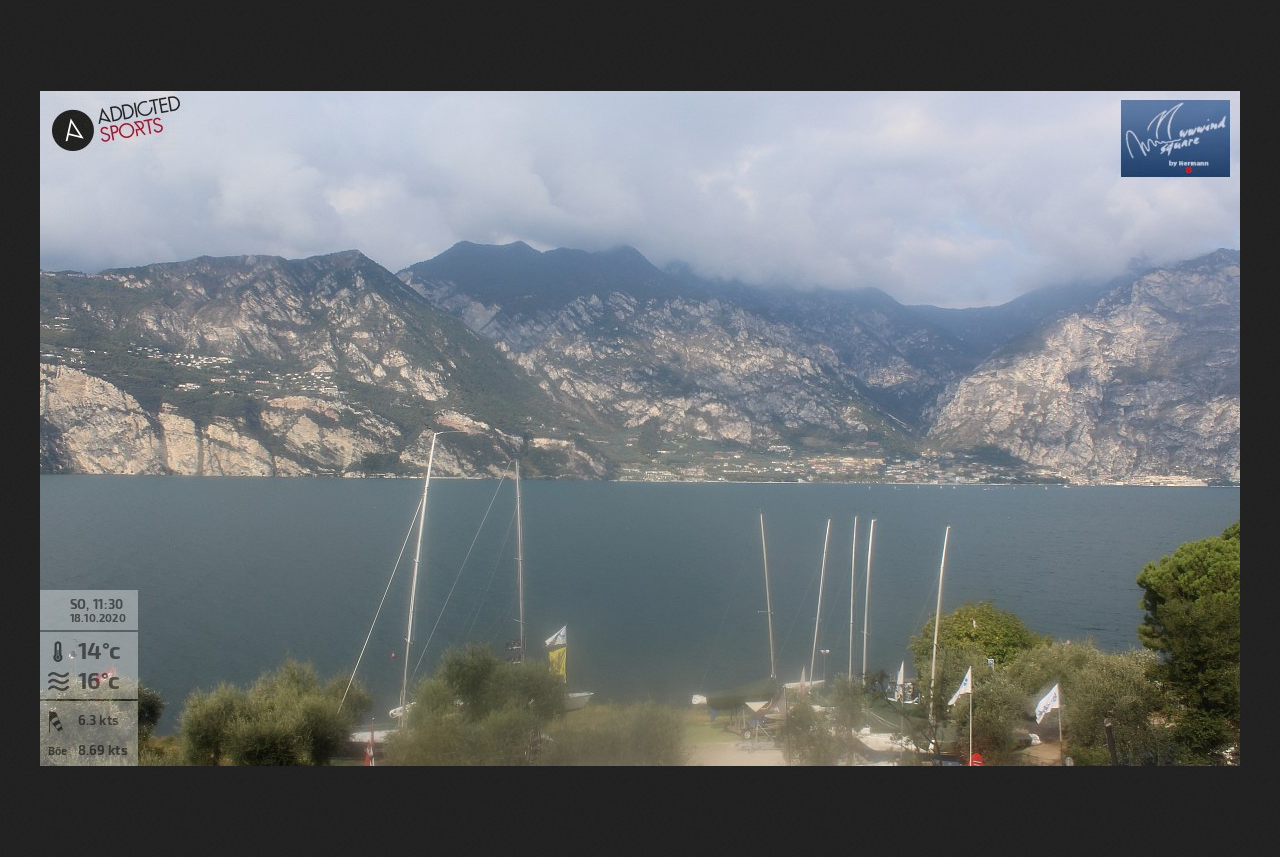maybe: (1033, 681, 1064, 721), (541, 621, 571, 648)
no: (947, 663, 974, 715)
yes: (546, 642, 570, 693)
